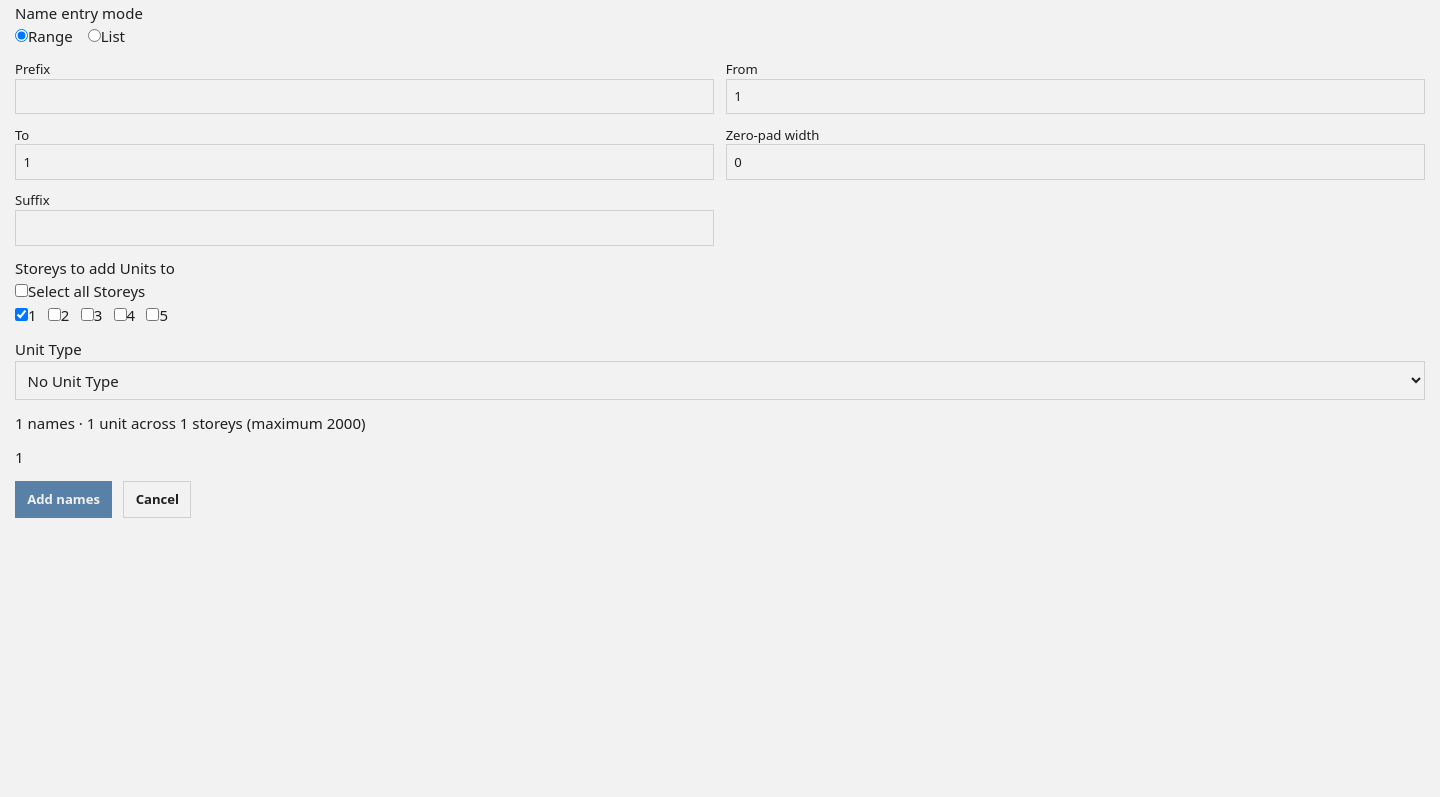
Test: refuses no selected Storeys and the multiplied product beyond 2000
The width and height of the screenshot is (1440, 797).
Click the checkbox labelled "Select all Storeys" at (22, 291), box [15, 284, 28, 297]
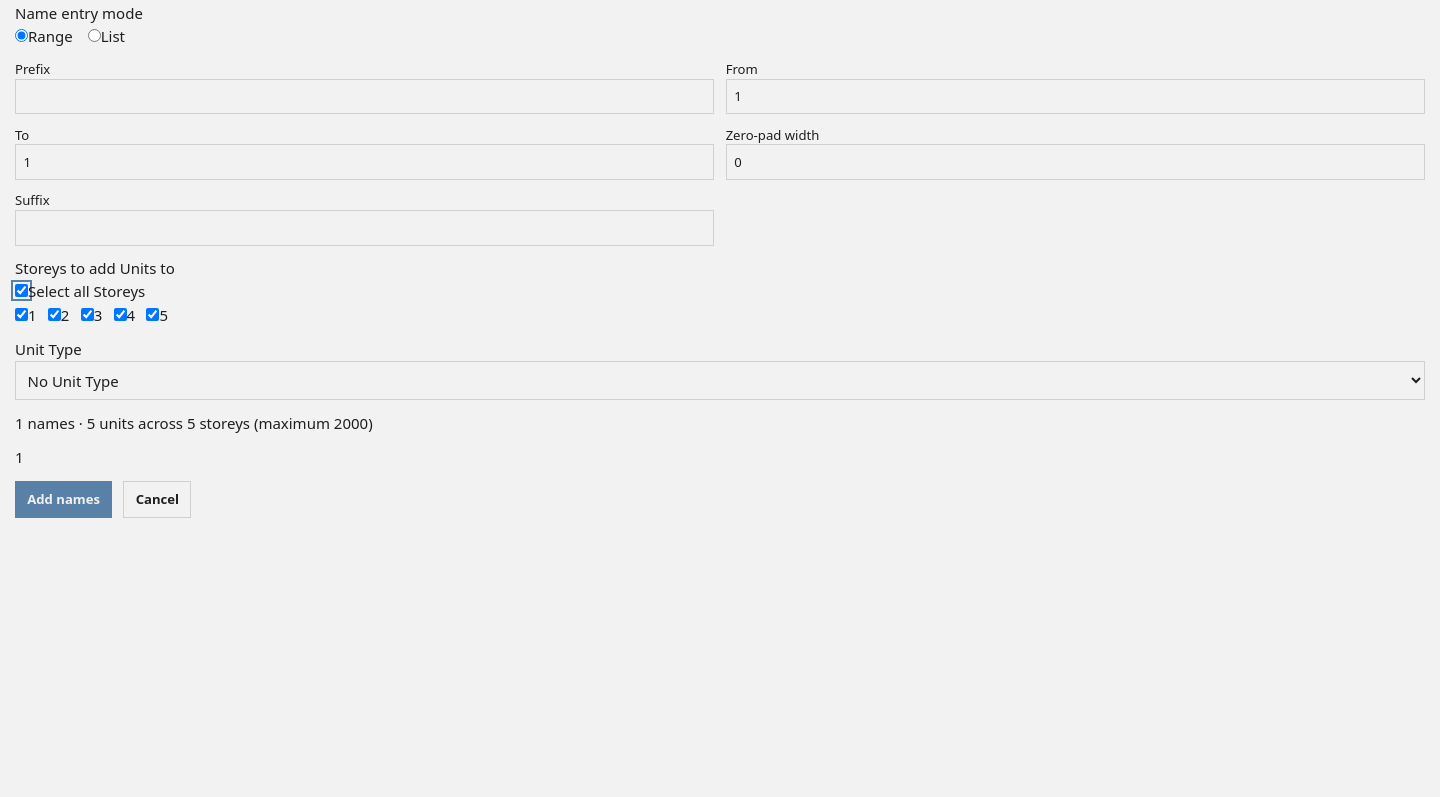
Replace the text in the number field labelled "To" with "401" at (365, 162), box [15, 144, 714, 180]
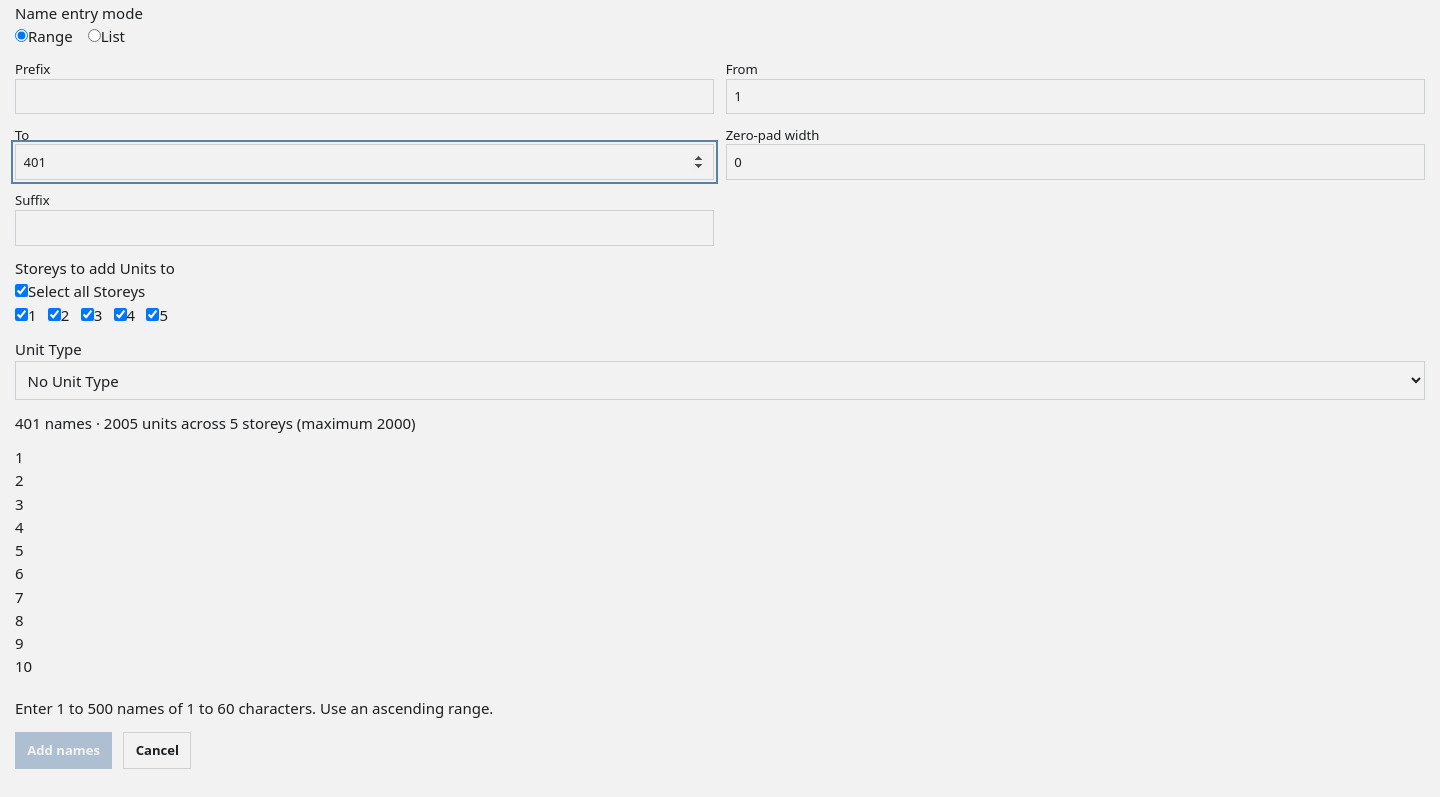
Now the button "Add names" is disabled, box [15, 732, 112, 769]
Now the text "· 2005 units across 5 storeys (maximum 2000)" is shown, box [92, 412, 416, 432]
Click the checkbox labelled "Select all Storeys" at (22, 291), box [15, 284, 28, 297]
(page scrolled)
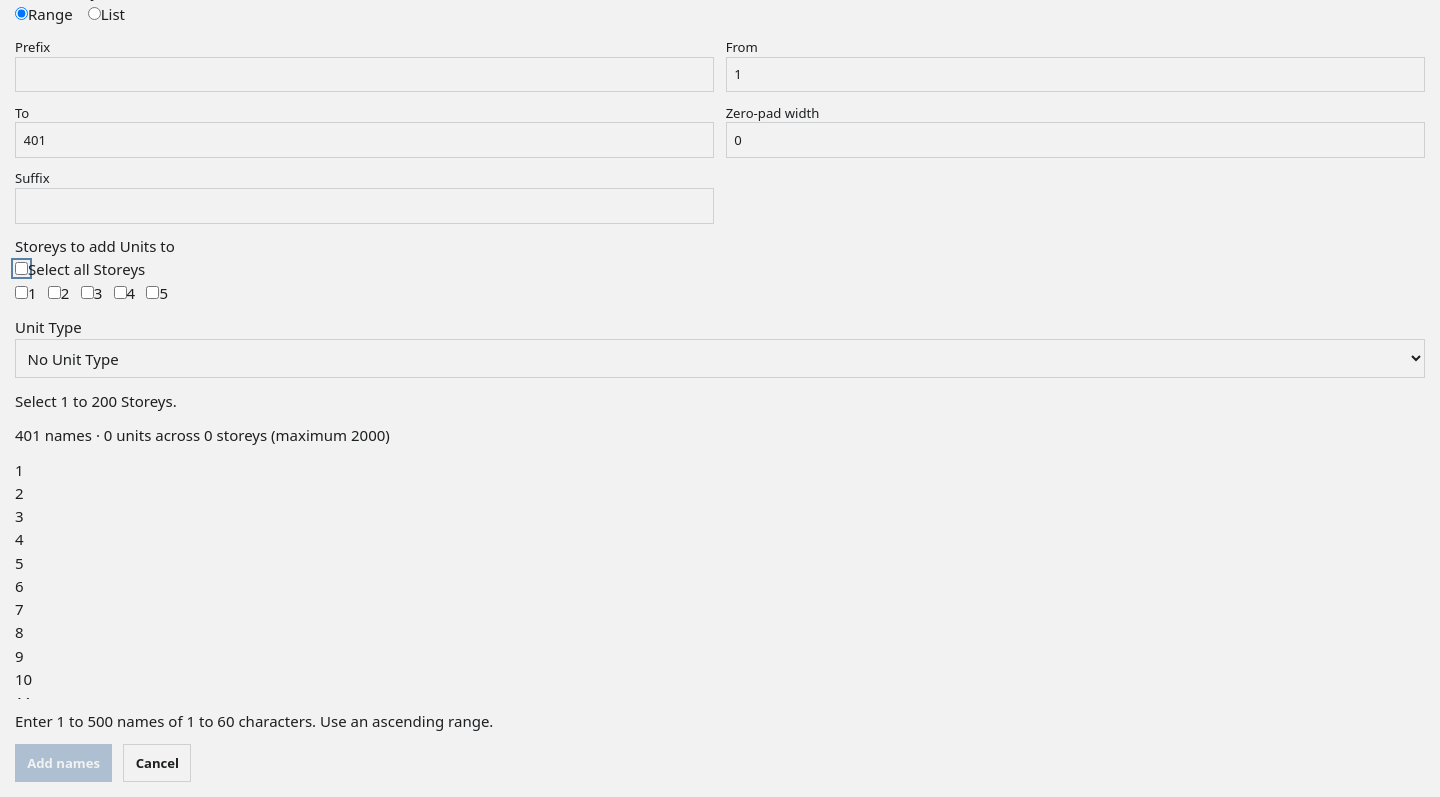
Now the button "Add names" is disabled, box [15, 744, 112, 782]
Now the text "Select 1 to 200 Storeys." is shown, box [15, 390, 177, 410]
